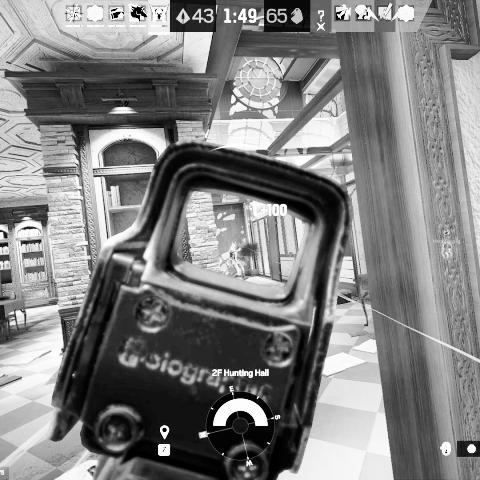Character: (228, 240, 250, 282)
Friend_label: (432, 228, 464, 244)
Head: (231, 241, 238, 248)
